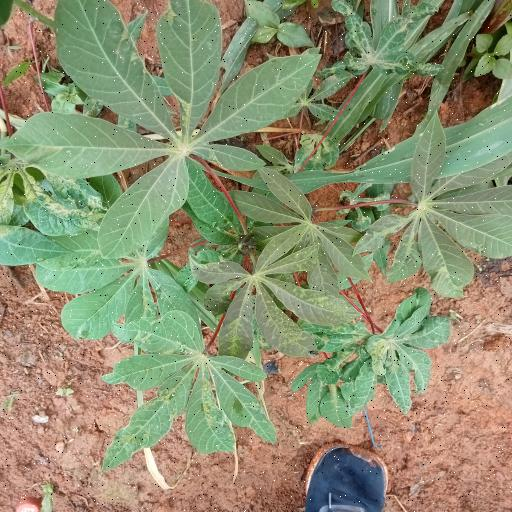Cassava_Mosaic: (21, 0, 317, 259), (108, 313, 278, 466), (353, 120, 512, 281), (322, 299, 451, 416)
